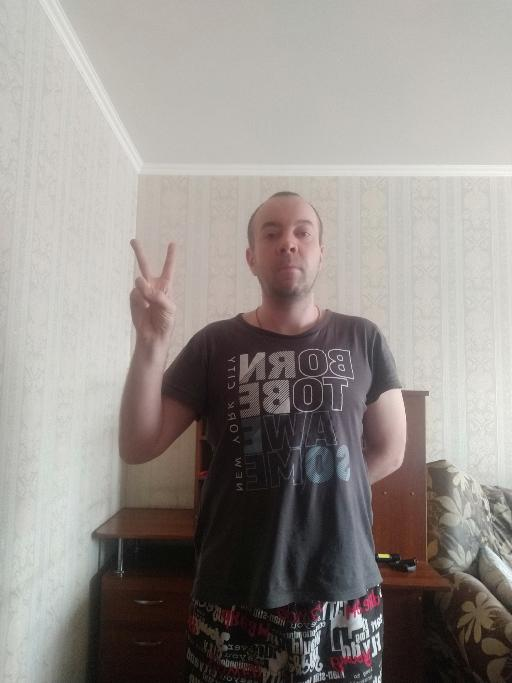peace: (123, 233, 184, 338)
